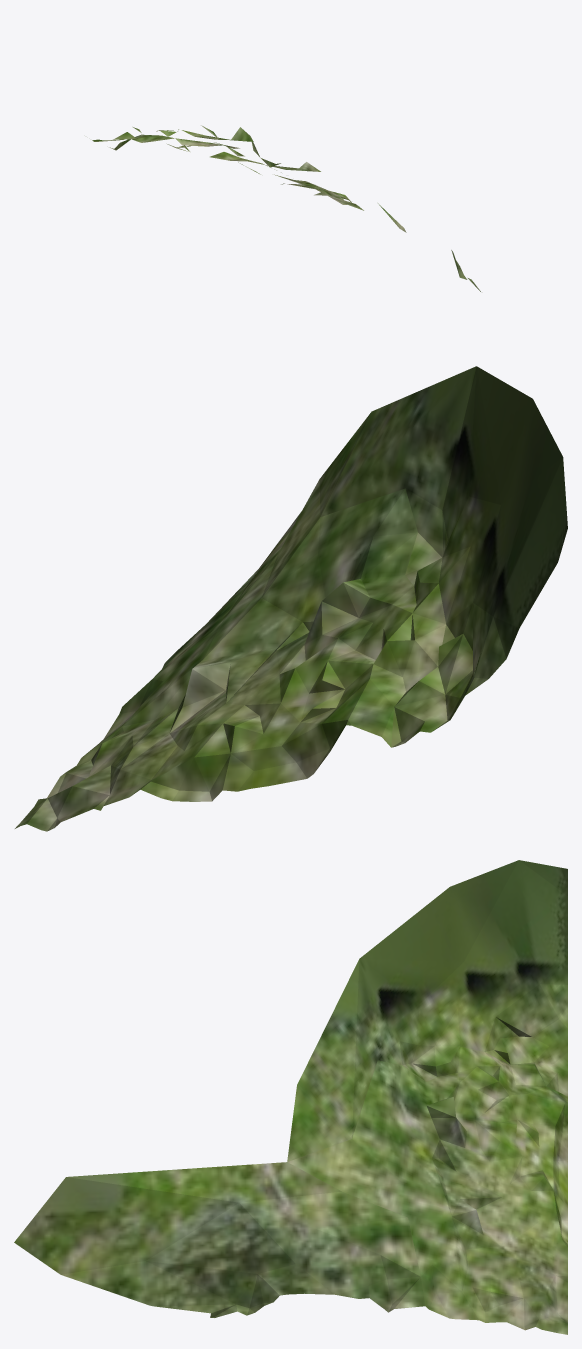
The picture shows the model from 3 angles, top to bottom: view 1: azimuth 30°, elevation 25°; view 2: azimuth 150°, elevation 25°; view 3: azimuth 270°, elevation 25°; orthographic projection. The views are drawn at different scales.
Size of the model in its own units: 31.35 by 25.43 by 41.17.
Materials: 1 (1 with a texture image).
